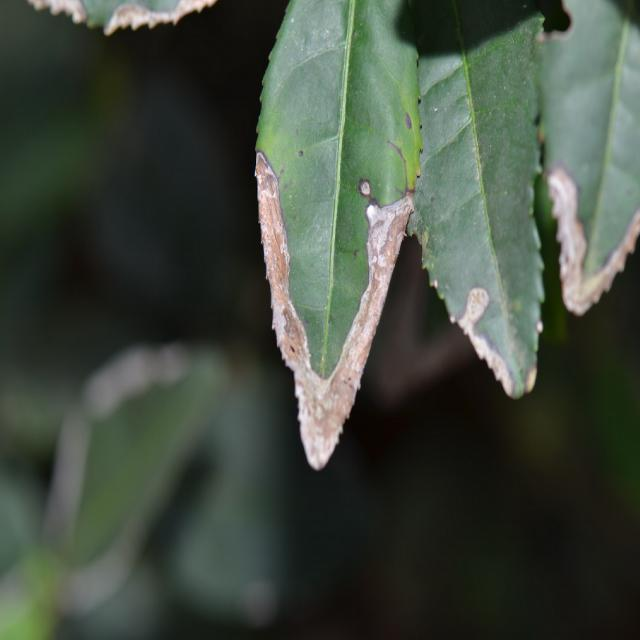Tea cloud leaf blight: (252, 147, 407, 470), (435, 265, 543, 388), (549, 163, 624, 319)
